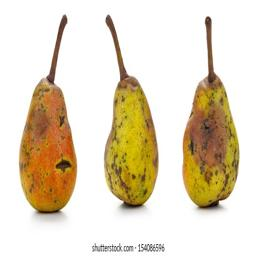Pear Rotten: (21, 11, 80, 213), (179, 13, 239, 209), (99, 8, 158, 205)
